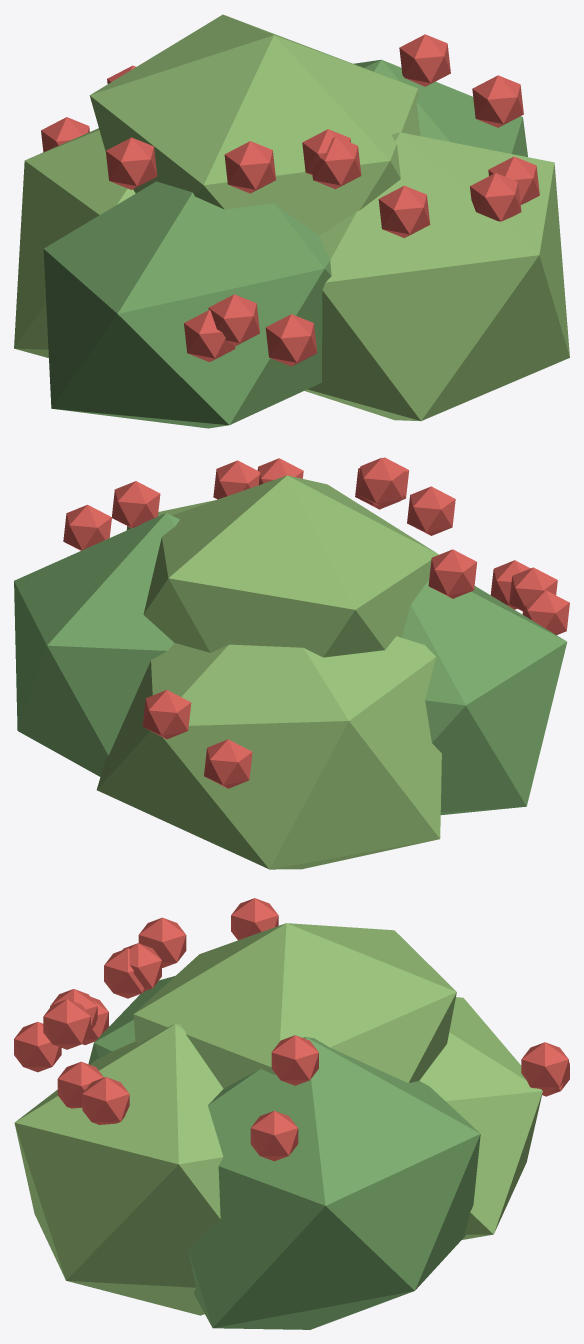
File: SM_Bush_Berry.fbx
3 views of the same model, one above another, from view 1: azimuth 30°, elevation 25°; view 2: azimuth 150°, elevation 25°; view 3: azimuth 270°, elevation 25° (orthographic). The views are drawn at different scales.
Parts seen in each view (by area): view 1: SM_Bush_Berry; view 2: SM_Bush_Berry; view 3: SM_Bush_Berry.
Boxes of the visible parts, x1=… form: SM_Bush_Berry: x1=14, y1=14, x2=569, y2=428; SM_Bush_Berry: x1=14, y1=457, x2=569, y2=869; SM_Bush_Berry: x1=14, y1=898, x2=569, y2=1329.
Size of the model in its own units: 1.11 by 0.7845 by 1.09.
